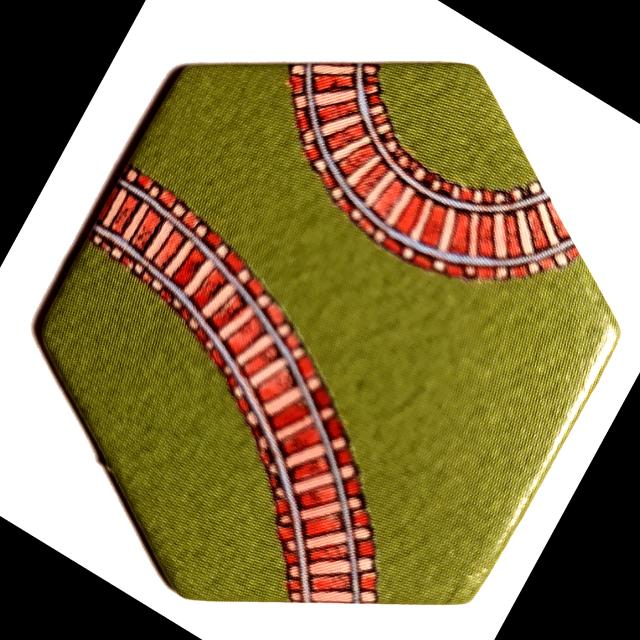15_4: (33, 61, 621, 600)
